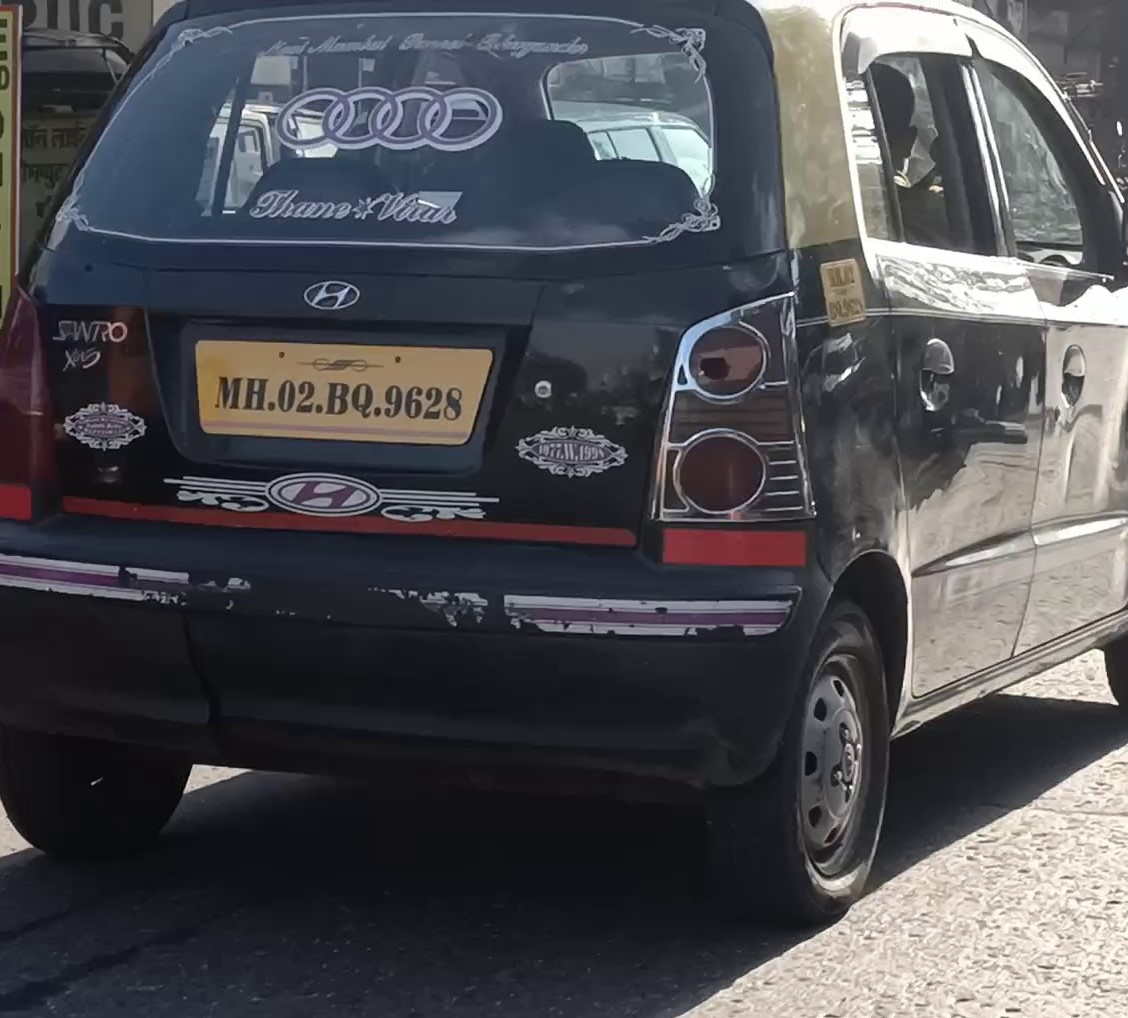MH02BQ9628: (190, 340, 493, 444)
